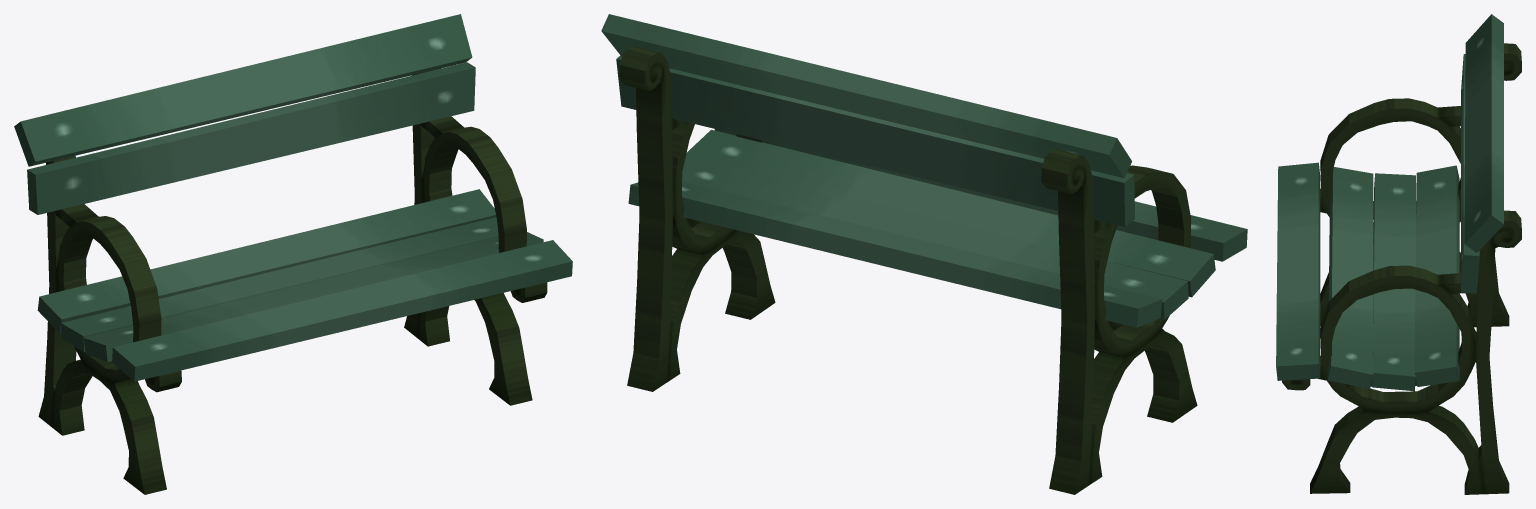
File: bench.fbx
3 renders of one model, left to right at view 1: azimuth 30°, elevation 25°; view 2: azimuth 150°, elevation 25°; view 3: azimuth 270°, elevation 25°, orthographic. The views are drawn at different scales.
Parts seen in each view (by area): view 1: bench; view 2: bench; view 3: bench.
Boxes of the visible parts, x1,y1,x2,y2 form: bench: (14, 14, 572, 494); bench: (601, 14, 1247, 494); bench: (1276, 14, 1521, 494).
Bounding box in the file's own units: 110 × 74.19 × 56.79.
